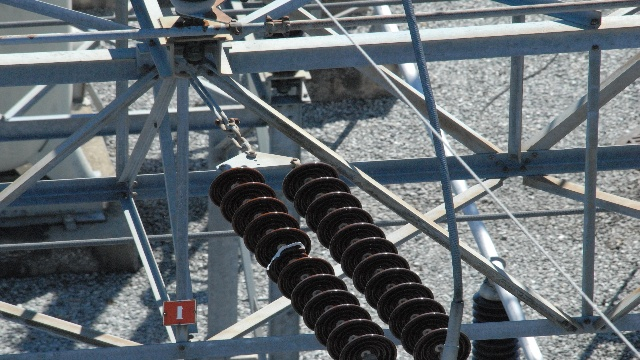broken_local: (263, 241, 316, 270)
insulator_unspecified: (209, 162, 472, 359)
